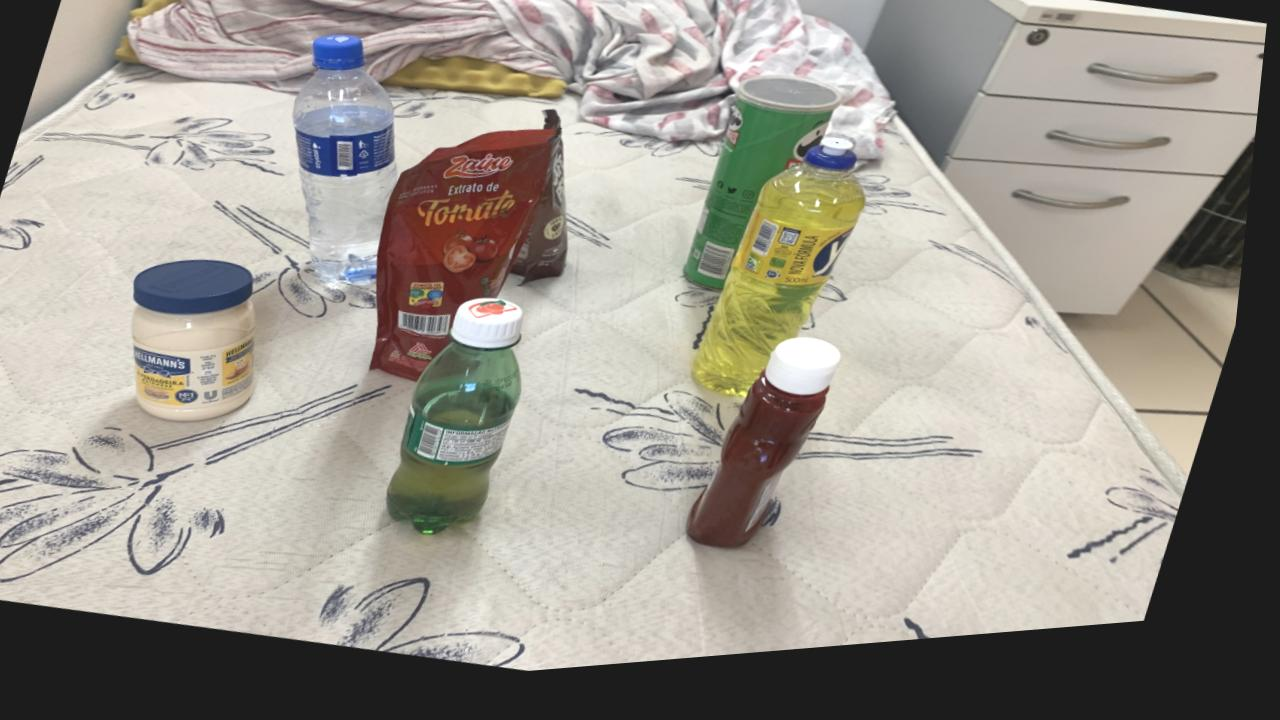Coffee-Pantry_Items: (516, 118, 574, 293)
Detergent-Cleanup_Items: (700, 151, 871, 410)
Guarana-Drinks: (398, 305, 531, 543)
Ketchup-Pantry_Items: (699, 352, 850, 562)
Mayonnaise-Pantry_Items: (138, 263, 263, 426)
Pringles-Snacks: (691, 88, 846, 303)
Tomato_Sauce-Pantry_Items: (378, 138, 560, 388)
Water_Bottle-Drinks: (295, 41, 402, 291), (225, 343, 230, 344)
